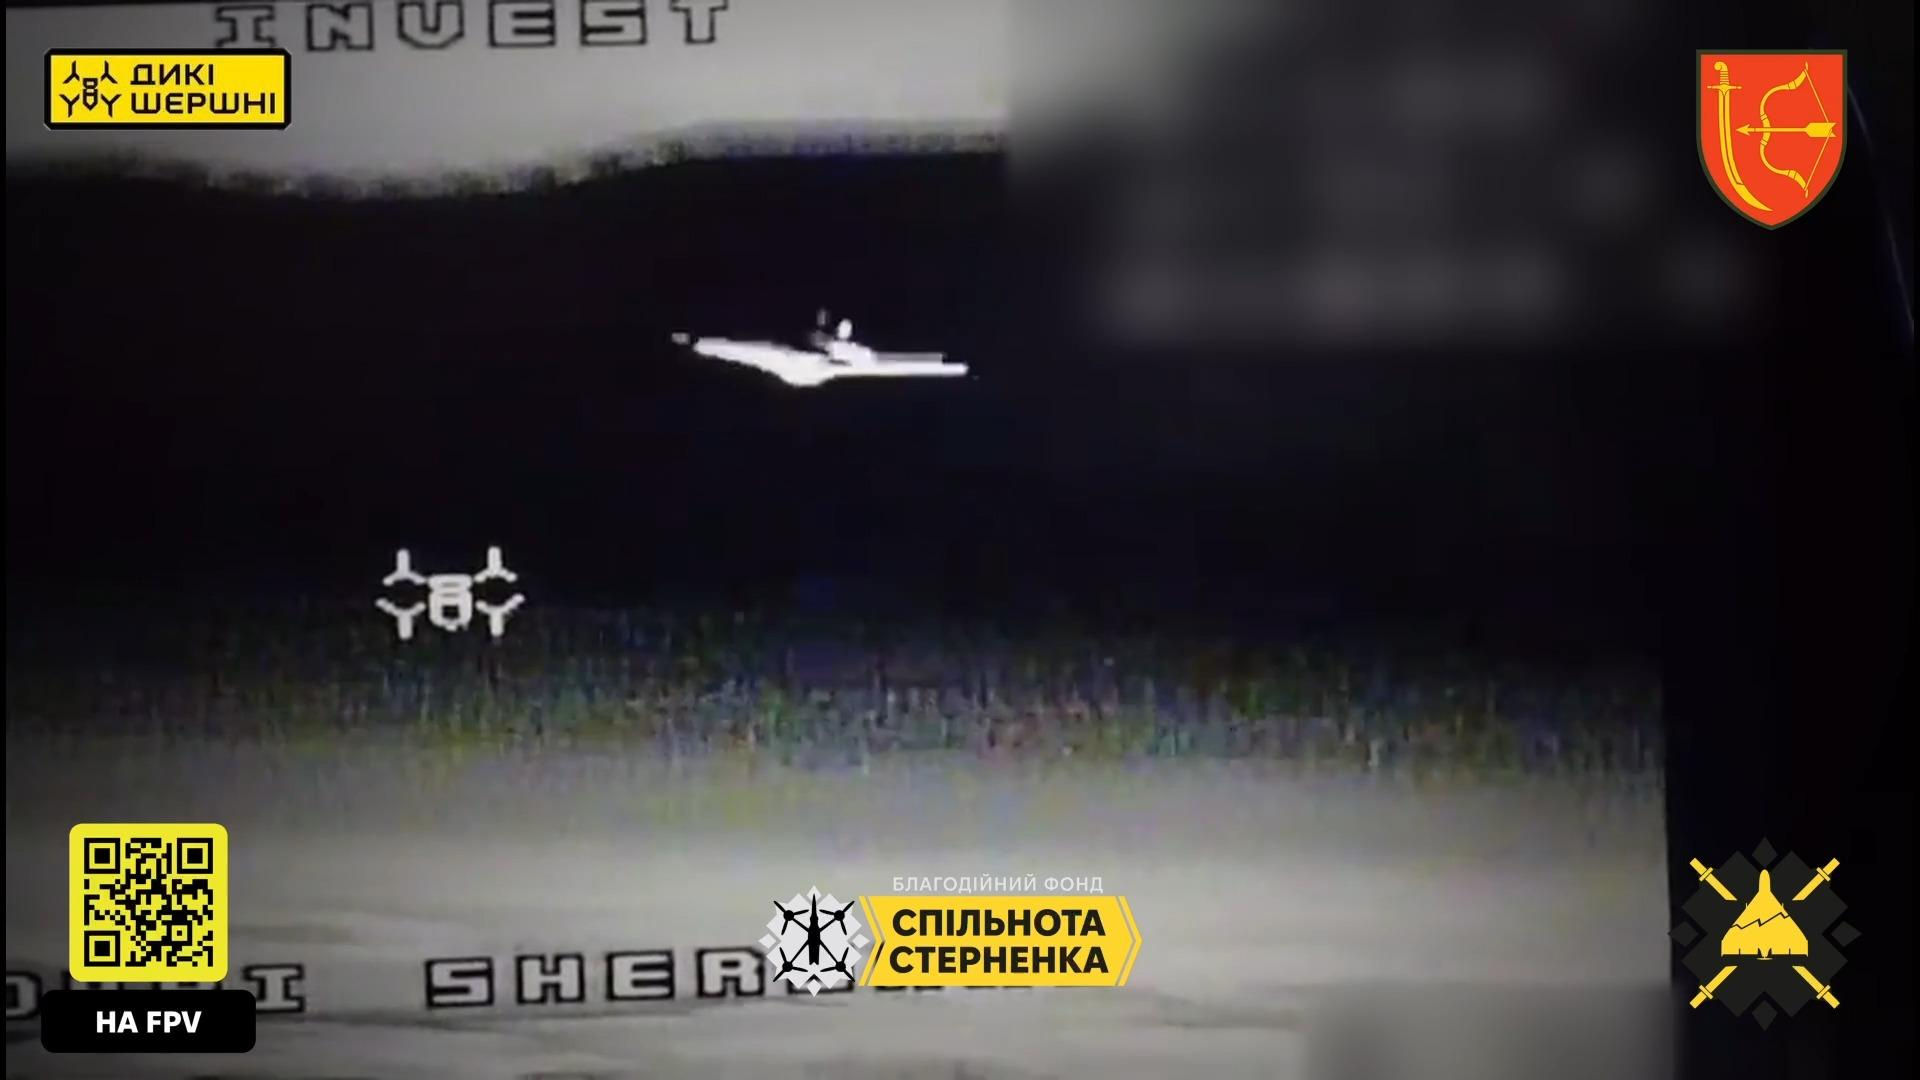Gerbera: (670, 310, 975, 388)
